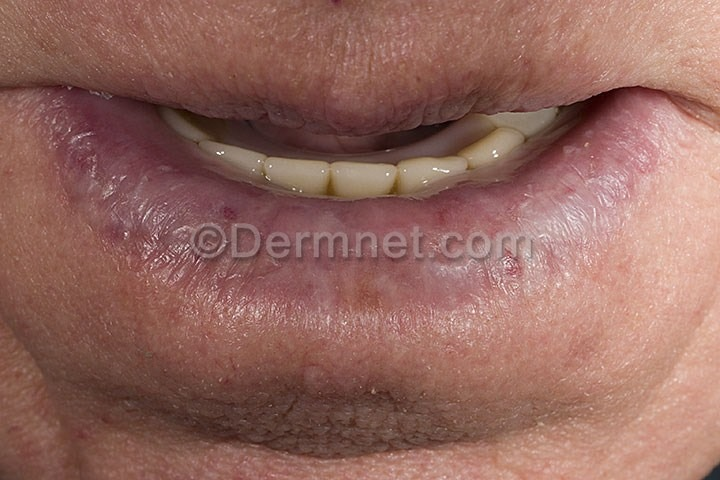Melasma: (26, 376, 110, 480), (0, 0, 40, 206)
